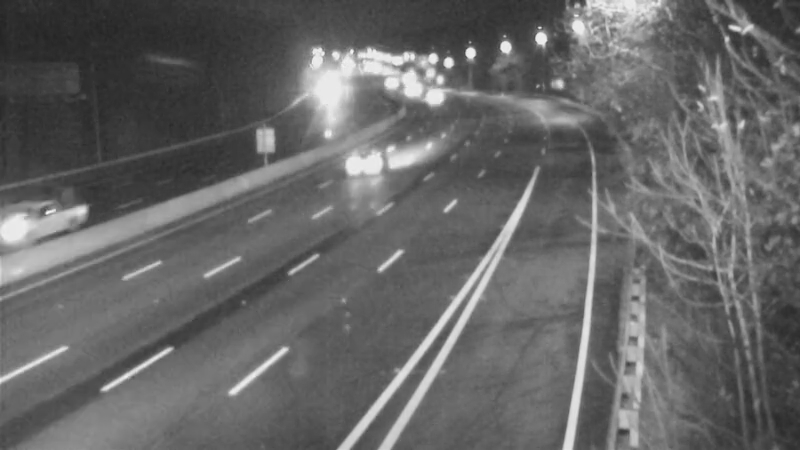vehicle: (326, 123, 406, 203), (18, 177, 98, 257), (364, 58, 414, 108), (388, 63, 438, 113), (406, 69, 456, 119)
